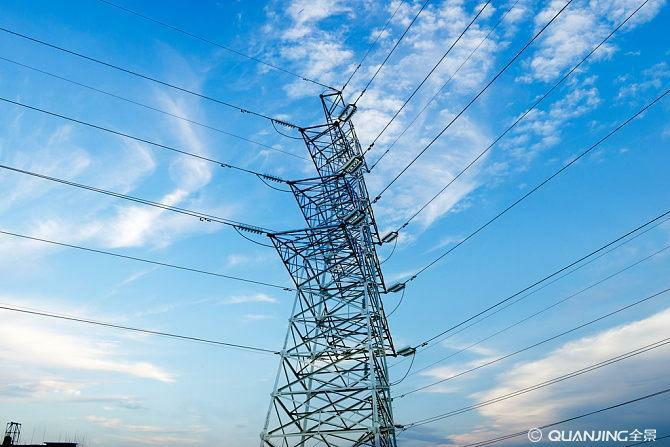power_tower: (227, 77, 405, 447)
